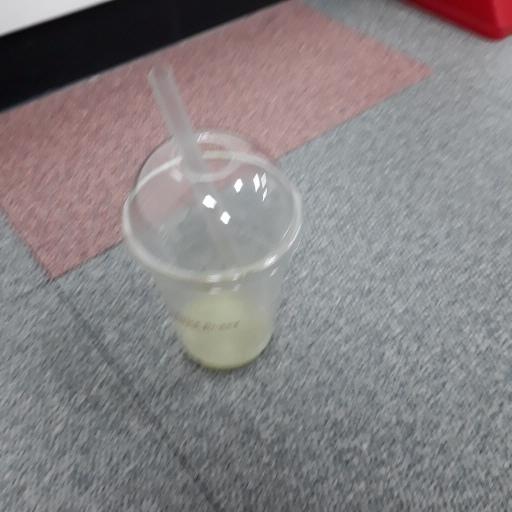Plastic_2: (116, 64, 305, 375)
